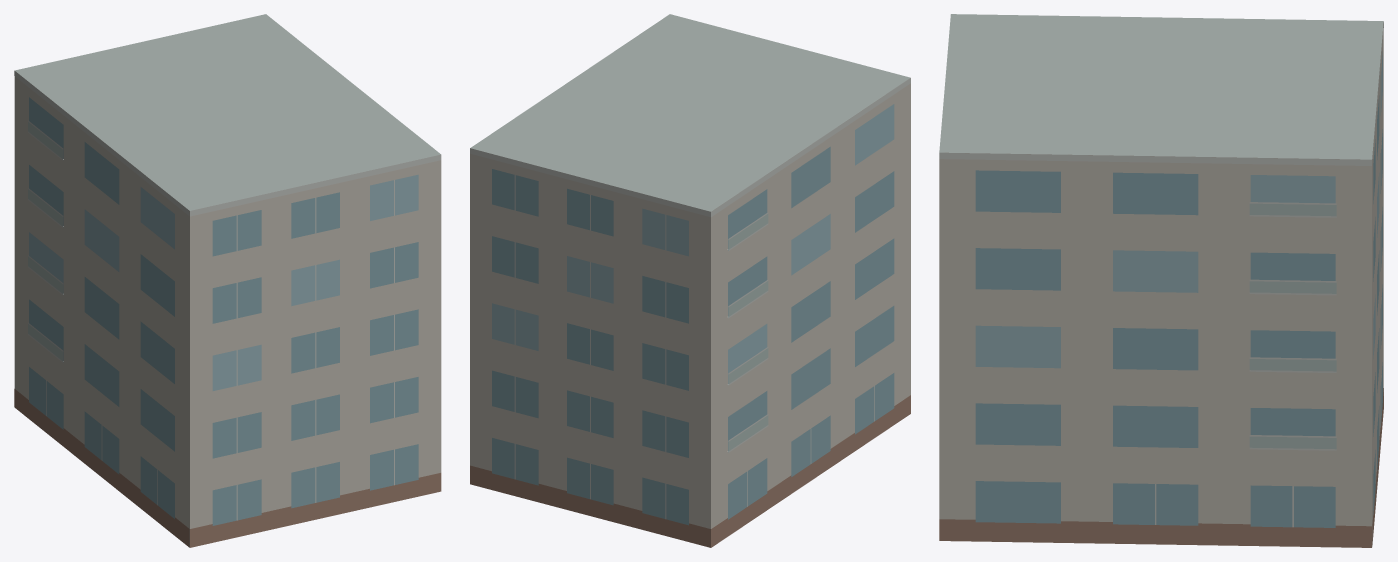
Rendered from survey-upis-32949771.glb.
The picture shows the model from 3 angles, left to right: view 1: azimuth 30°, elevation 25°; view 2: azimuth 150°, elevation 25°; view 3: azimuth 270°, elevation 25°; orthographic projection. The views are drawn at different scales.
Visible parts, largest first — view 1: survey-upis-32949771.tmp; view 2: survey-upis-32949771.tmp; view 3: survey-upis-32949771.tmp.
Boxes of the visible parts, <box> form: survey-upis-32949771.tmp: <box>14,14,441,547</box>; survey-upis-32949771.tmp: <box>470,14,910,547</box>; survey-upis-32949771.tmp: <box>939,14,1383,547</box>.
Bounding box in the file's own units: 11.84 × 14.7 × 15.26.
